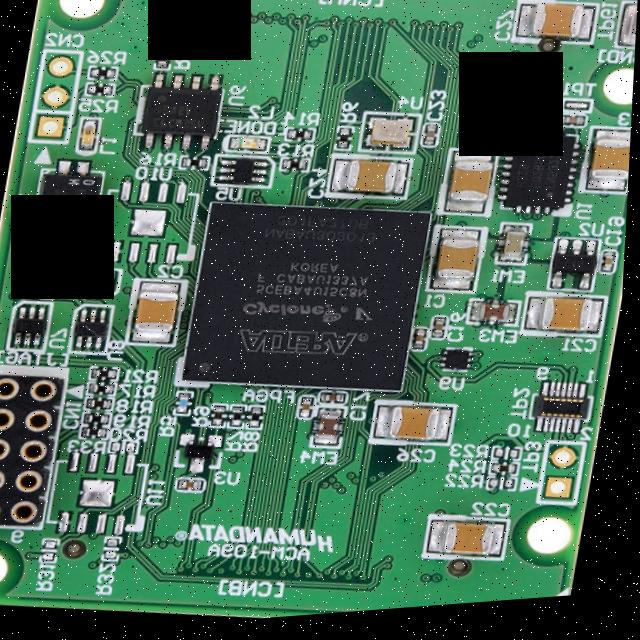-component text- -1 2-: (46, 220, 86, 237)
-component text- -2 G-: (41, 192, 57, 217)
-component text- -ALTERA Cyclone V 5CEBA4U15C8N F CABAU1337A KOREA NABAU303013 3: (236, 205, 396, 374)
-component text- -EN5322 E02BSC-: (514, 150, 569, 205)
-component text- -EPCQ32M Q245A-: (149, 98, 213, 136)
-component text- -O N-: (68, 175, 99, 189)
-emi filter- EM1: (499, 227, 536, 272)
-emi filter- EM3: (472, 299, 526, 336)
-emi filter- EM4: (315, 409, 352, 455)
-resistor network- RM2: (82, 266, 125, 297)
-test point- TP1: (562, 106, 595, 121)
-test point- TPG1: (613, 7, 638, 60)
2025: (523, 99, 555, 117)
2156: (176, 391, 200, 416)
2189: (336, 129, 355, 155)
2200: (232, 406, 252, 431)
2211: (251, 406, 269, 432)
2222: (213, 404, 233, 431)
2240: (31, 151, 111, 254)
2249: (222, 117, 291, 143), (471, 94, 517, 115)
2308: (208, 537, 322, 574)
2329: (315, 0, 386, 20)
2330: (221, 575, 292, 606)
2376: (593, 52, 636, 81)
2400: (0, 344, 74, 370)
2644: (587, 374, 602, 392)
2645: (510, 428, 538, 449), (0, 521, 6, 544)
2700: (582, 432, 601, 451)
2784: (538, 370, 556, 391), (13, 525, 32, 544)
2829: (22, 262, 45, 301)
2844: (425, 295, 451, 317)
2889: (519, 113, 560, 136)
2911: (449, 314, 473, 350)
2922: (350, 392, 379, 429)
2944: (605, 221, 629, 256)
2955: (158, 263, 189, 284)
2967: (564, 340, 605, 365)
2978: (475, 503, 519, 527)
2989: (425, 91, 453, 130)
3021: (399, 447, 443, 474)
3027: (491, 13, 516, 50)
3057: (617, 116, 634, 138)
3153: (473, 136, 508, 157)
3250: (65, 399, 86, 431)
3251: (42, 27, 89, 51)
3339: (491, 270, 533, 295)
3341: (480, 331, 525, 355)
3342: (299, 448, 349, 474)
3430: (241, 385, 304, 411)
3452: (177, 511, 344, 567)
3561: (98, 134, 123, 159)
3563: (246, 102, 281, 126)
3564: (478, 76, 512, 100)
3625: (39, 248, 68, 302)
3800: (273, 142, 320, 166)
3811: (283, 108, 325, 135)
3822: (172, 36, 198, 74)
3833: (138, 147, 181, 171)
3844: (119, 380, 163, 402)
3855: (116, 394, 162, 417)
3866: (115, 410, 158, 431)
3878: (112, 424, 155, 445)
3889: (122, 367, 164, 388)
3900: (448, 474, 491, 500)
3911: (452, 445, 495, 468)
3921: (451, 460, 497, 482)
3932: (77, 92, 123, 117)
3943: (85, 44, 130, 70)
3986: (519, 80, 561, 103)
3993: (39, 560, 65, 595)
3997: (99, 561, 127, 600)
4001: (69, 435, 115, 459)
4122: (160, 413, 182, 441)
4157: (337, 101, 363, 131)
4168: (229, 428, 250, 456)
4179: (245, 430, 269, 457)
4190: (194, 405, 215, 432)
4211: (62, 260, 87, 299)
4266: (15, 188, 39, 224)
4303: (563, 84, 602, 108)
4312: (512, 389, 537, 429)
4316: (523, 445, 551, 480)
4325: (595, 7, 622, 52)
4341: (572, 206, 598, 230)
4342: (133, 163, 179, 186)
4343: (147, 477, 173, 510)
4352: (576, 227, 611, 249)
4363: (216, 468, 249, 490)
4367: (394, 96, 427, 118)
4368: (215, 185, 247, 205)
4369: (227, 84, 251, 111)
4370: (49, 323, 75, 352)
4371: (109, 338, 131, 363)
4372: (440, 378, 471, 400)
4436: (32, 142, 57, 168), (522, 481, 547, 503), (70, 380, 90, 401)
capacitor: (180, 475, 214, 497), (301, 397, 319, 423), (415, 331, 431, 356)
capacitor C10: (430, 229, 489, 302)
capacitor C140: (560, 118, 590, 136)
capacitor C160: (433, 319, 452, 346)
capacitor C170: (323, 393, 351, 410)
capacitor C190: (604, 258, 623, 282)
capacitor C20: (125, 274, 192, 352)
capacitor C210: (525, 295, 611, 348)
capacitor C220: (429, 516, 516, 571)
capacitor C230: (422, 128, 442, 153)
capacitor C240: (329, 155, 415, 207)
capacitor C260: (376, 401, 458, 454)
capacitor C270: (516, 4, 599, 56)
capacitor C30: (583, 130, 633, 204)
capacitor C40: (445, 153, 501, 224)
clock U8: (360, 114, 422, 161)
connector CN2: (0, 359, 76, 533)
connector CN3: (30, 46, 82, 145)
connector TPG1: (545, 446, 591, 513)
ic FPGA: (183, 189, 434, 409)
ic TP2: (533, 383, 597, 446)
ic U1: (496, 128, 587, 228)
ic U2: (552, 243, 604, 301)
ic U3: (177, 431, 231, 479)
ic U5: (215, 153, 276, 193)
ic U6: (134, 67, 225, 157)
ic U7: (10, 296, 55, 352)
ic U8: (71, 302, 117, 356)
ic U9: (443, 347, 479, 381)
led L1: (79, 117, 101, 153)
led L2: (225, 135, 272, 158)
led L3: (468, 108, 514, 131)
pads R22: (487, 479, 522, 499)
pads R23: (497, 450, 527, 469)
pads R31: (43, 535, 67, 565)
pads R32: (107, 534, 129, 563)
pads R33: (112, 439, 144, 457)
pads U10: (97, 174, 209, 271)
pads U11: (49, 444, 162, 542)
resistor R130: (282, 160, 311, 177)
resistor R140: (287, 130, 316, 146)
resistor R150: (155, 46, 173, 73)
resistor R160: (180, 156, 210, 173)
resistor R170: (91, 381, 121, 396)
resistor R180: (88, 396, 119, 412)
resistor R190: (86, 410, 116, 426)
resistor R200: (84, 425, 114, 441)
resistor R210: (94, 365, 122, 382)
resistor R240: (495, 468, 525, 484)
resistor R250: (86, 81, 115, 98)
resistor R260: (88, 63, 120, 81)
